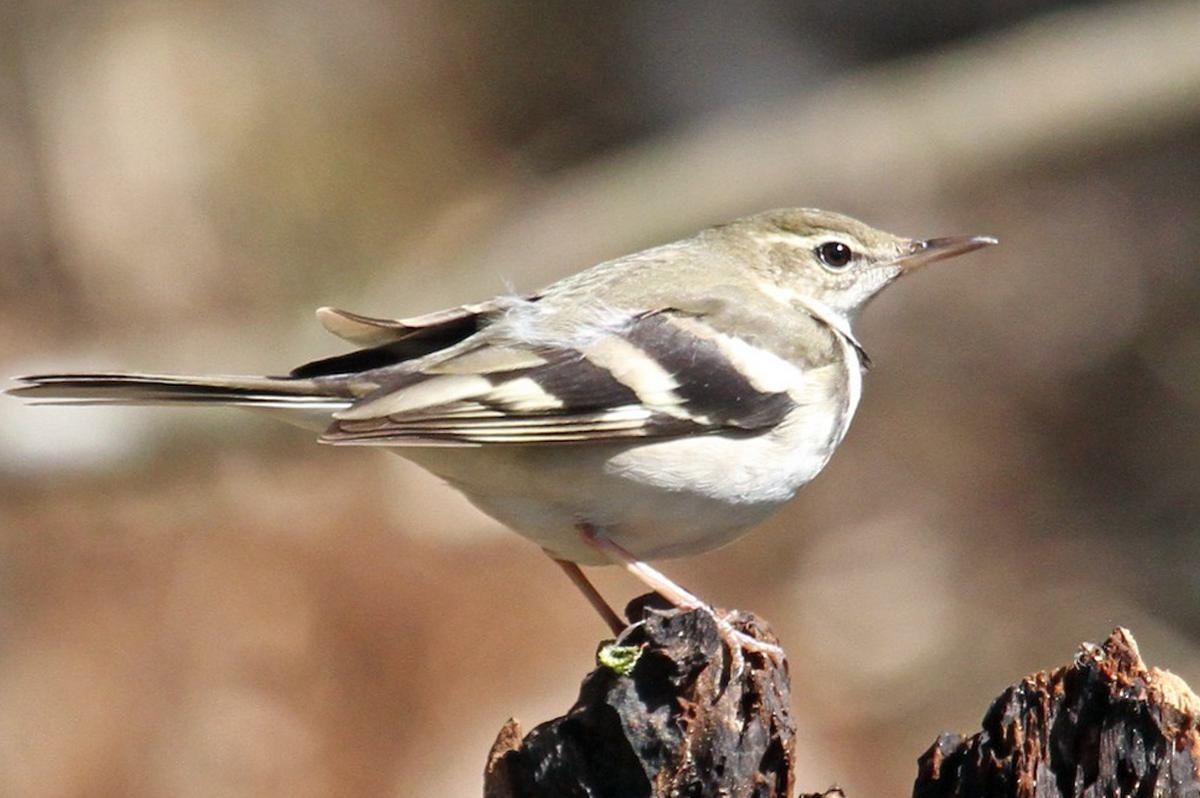wagtail: (237, 159, 993, 620)
